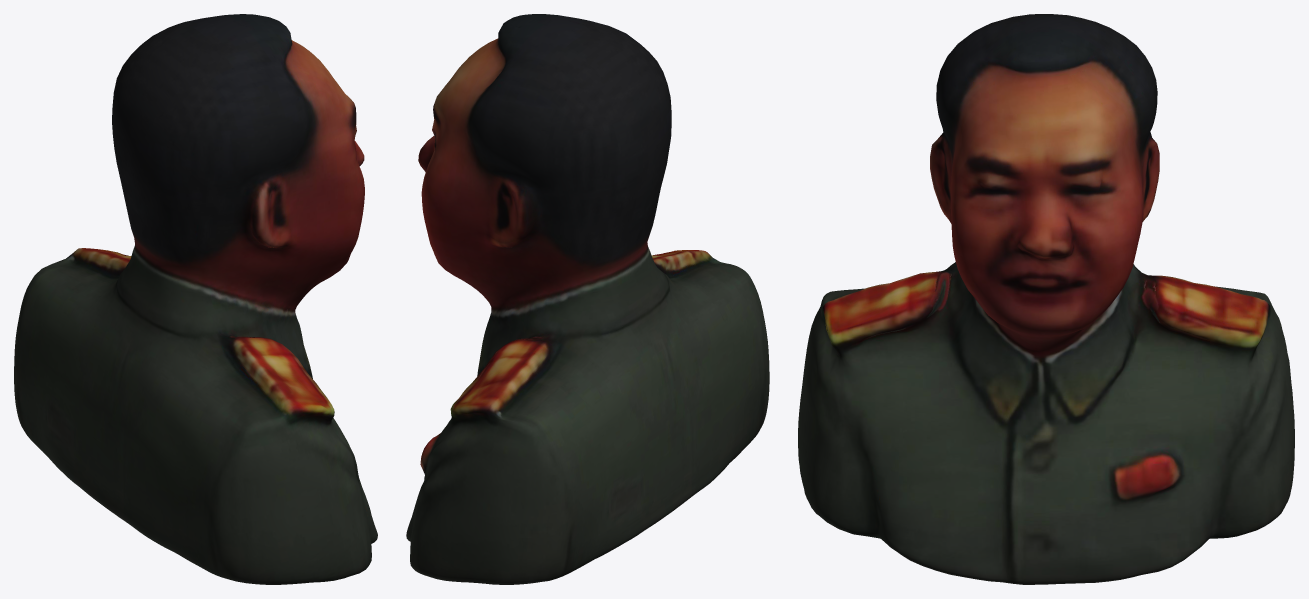
The model's file is 1ba25c141fff_mao_ze_dong__3d_ass.fbx.
3 renders of one model, left to right at view 1: azimuth 30°, elevation 25°; view 2: azimuth 150°, elevation 25°; view 3: azimuth 270°, elevation 25°, orthographic. The views are drawn at different scales.
Visible parts, largest first — view 1: mesh; view 2: mesh; view 3: mesh.
Boxes of the visible parts, box(x1,y1,x2,y2) form: mesh: box(14, 14, 377, 584); mesh: box(406, 14, 769, 584); mesh: box(798, 14, 1294, 584).
Size of the model in its own units: 52.01 by 99.84 by 87.59.
